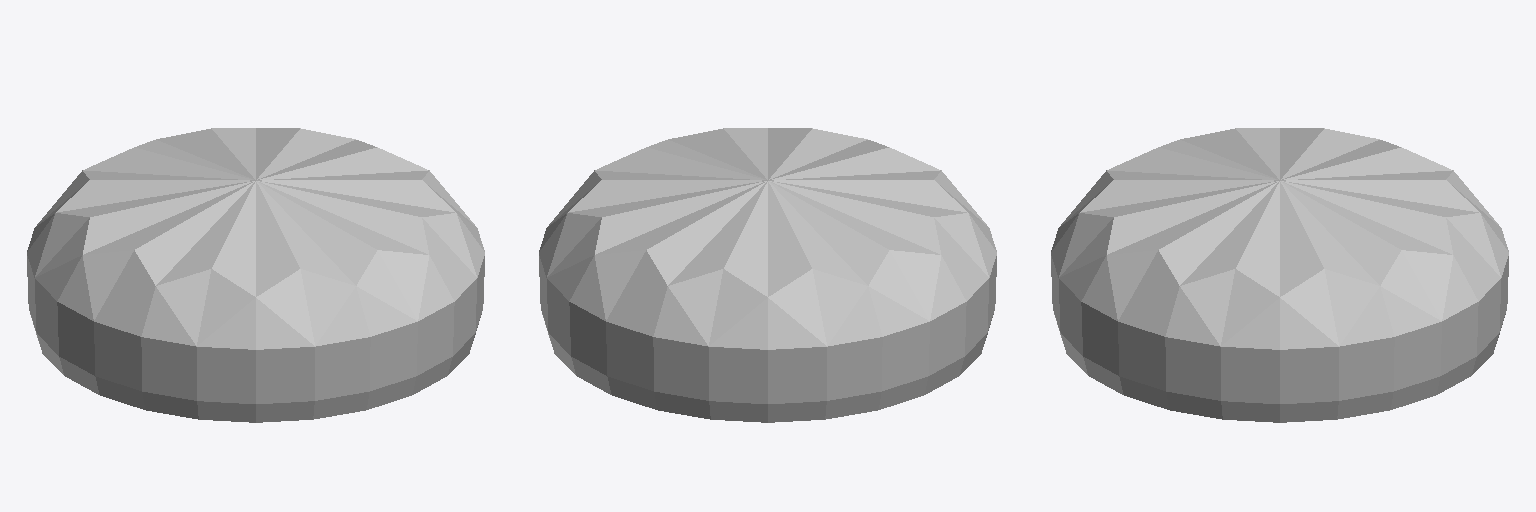
File: tyref.obj
3 views of the same model, side by side, from view 1: azimuth 30°, elevation 25°; view 2: azimuth 150°, elevation 25°; view 3: azimuth 270°, elevation 25° (orthographic).
Visible parts, largest first — view 1: TyreFL_Plane.004; view 2: TyreFL_Plane.004; view 3: TyreFL_Plane.004.
Part boxes in pixels (left/top/right/bottom): TyreFL_Plane.004: left=27, top=128, right=484, bottom=422; TyreFL_Plane.004: left=539, top=128, right=996, bottom=422; TyreFL_Plane.004: left=1051, top=128, right=1508, bottom=422.
Size of the model in its own units: 0.8184 by 0.2971 by 0.8184.